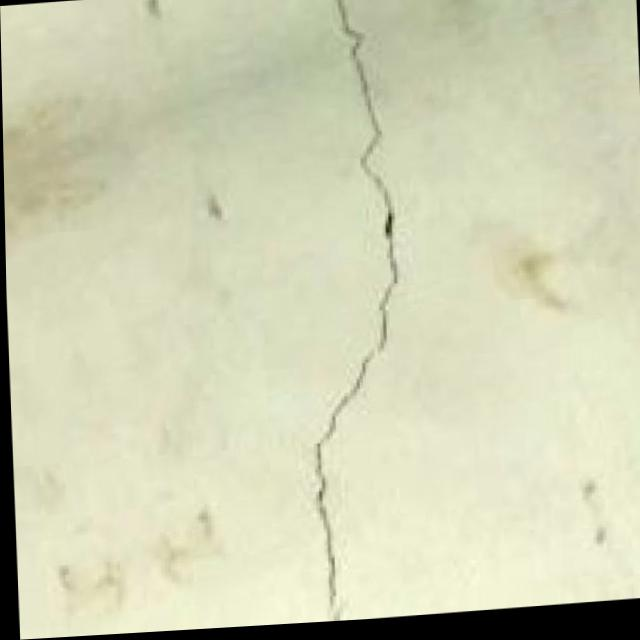Crack: (262, 0, 444, 628)
